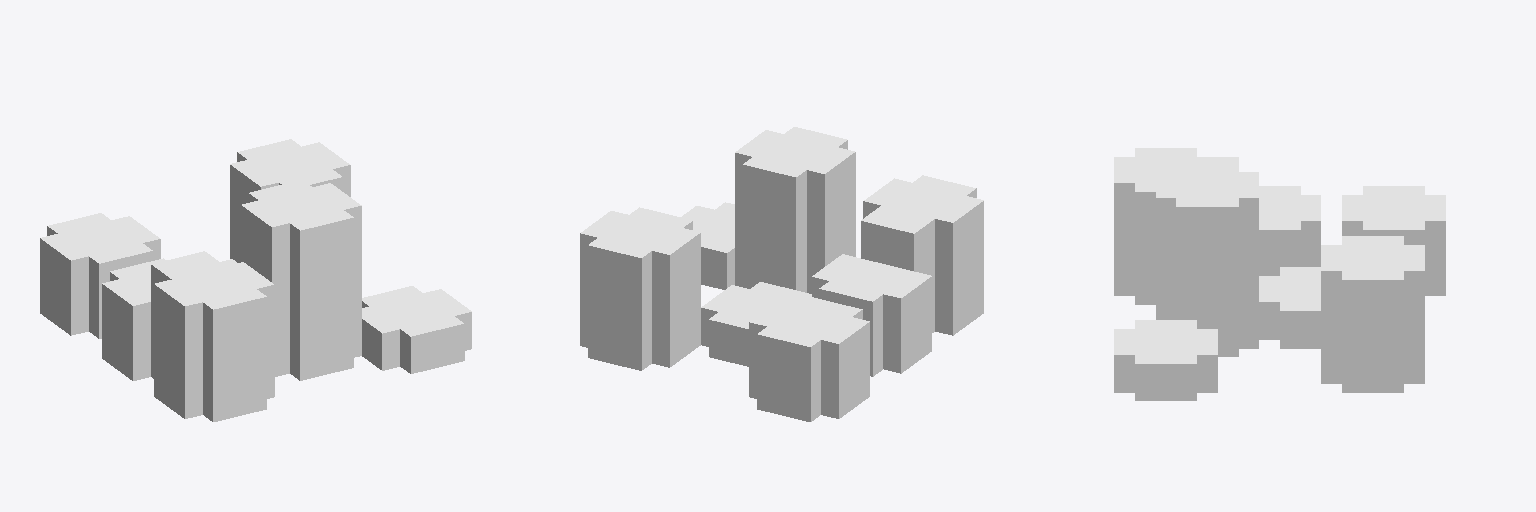
File: dTreasure.obj
The picture shows the model from 3 angles: view 1: azimuth 30°, elevation 25°; view 2: azimuth 150°, elevation 25°; view 3: azimuth 270°, elevation 25°; orthographic projection.
Parts seen in each view (by area): view 1: object 1; view 2: object 1; view 3: object 1.
Boxes of the visible parts, box(x1,y1,x2,y2) form: object 1: box(40, 139, 471, 421); object 1: box(580, 127, 983, 421); object 1: box(1114, 148, 1445, 400).
Size of the model in its own units: 1.6 by 0.8 by 1.6.